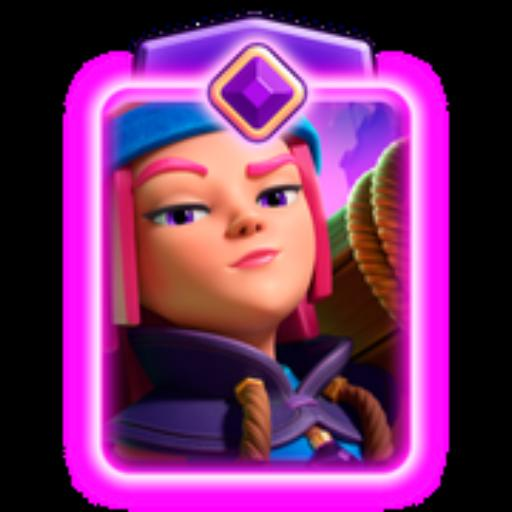firecracker-evo: (106, 88, 392, 464)
